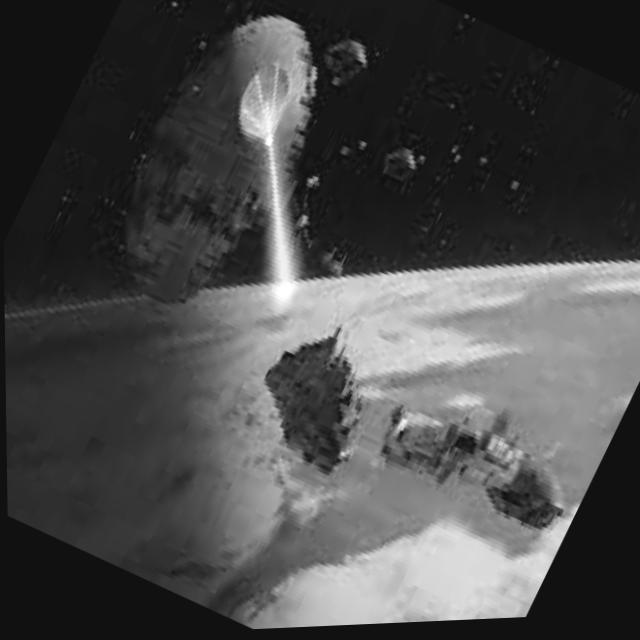death-stars: (124, 18, 319, 309)
